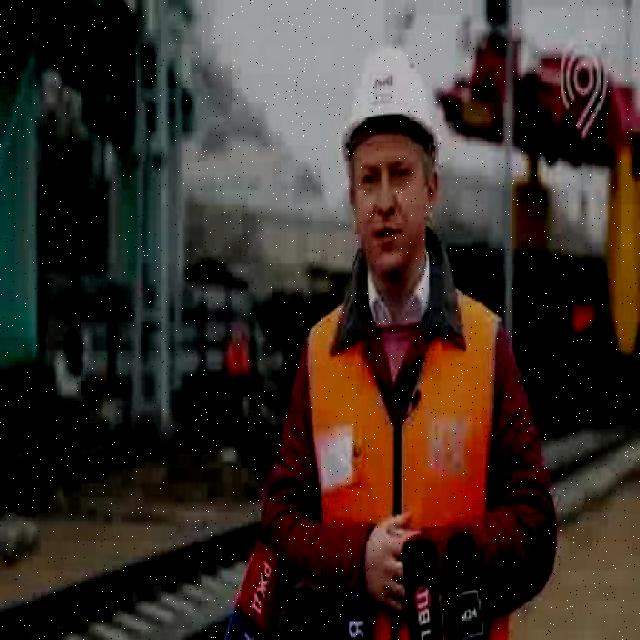Helmet: (338, 36, 440, 158)
Mask: (306, 276, 516, 638)
